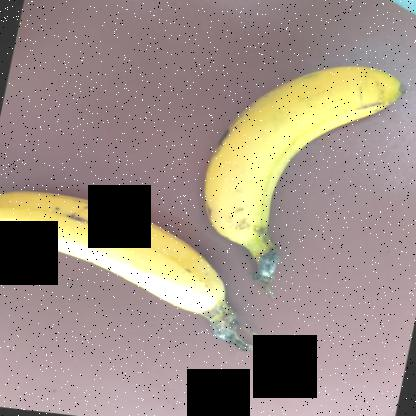freshripe: (194, 57, 414, 250), (0, 183, 213, 316)
